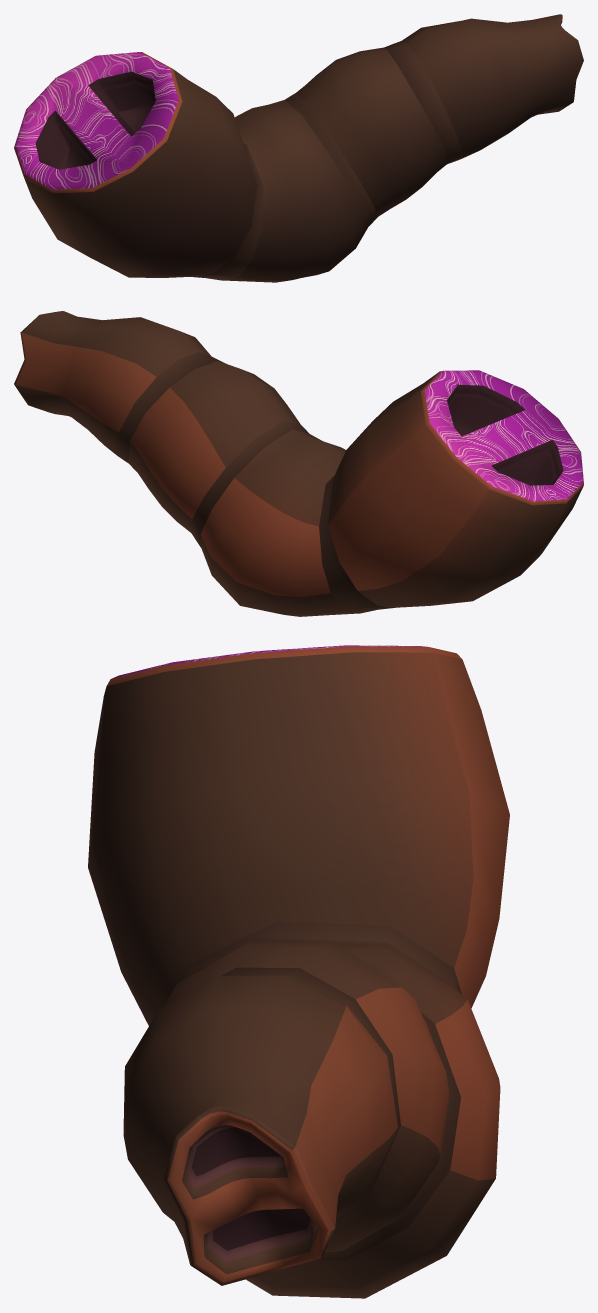
Rendered from Elephant Trunk.fbx.
3 renders of one model, top to bottom at view 1: azimuth 30°, elevation 25°; view 2: azimuth 150°, elevation 25°; view 3: azimuth 270°, elevation 25°, orthographic. The views are drawn at different scales.
Visible parts, largest first — view 1: NurbsPath; view 2: NurbsPath; view 3: NurbsPath.
Boxes of the visible parts, x1,y1,x2,y2 form: NurbsPath: [14, 14, 583, 282]; NurbsPath: [14, 311, 583, 616]; NurbsPath: [88, 645, 509, 1298].
Size of the model in its own units: 1327 by 591 by 455.
1 material, 1 textured.
